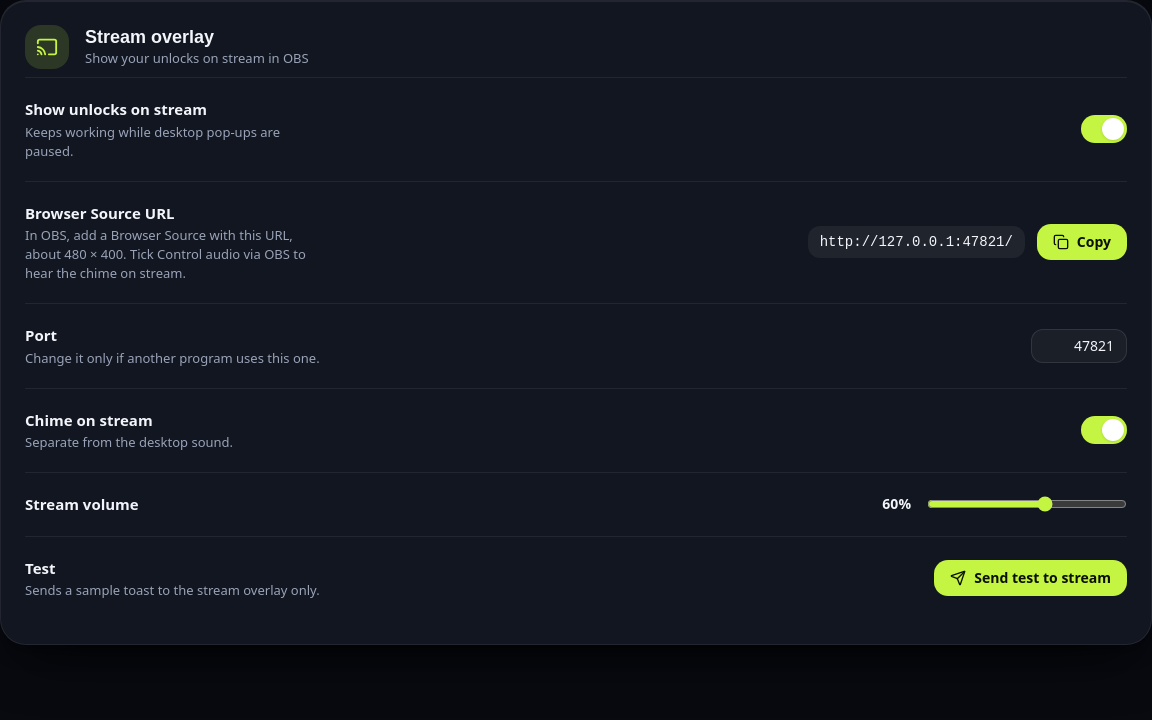
it: StreamOverlaySection › shows the Browser Source URL once the server is running and copies it
The image size is (1152, 720).
Expected: the text "http://127.0.0.1:47821/" is shown, [808, 226, 1025, 258]
Click the button "Copy": (1082, 242) [1037, 224, 1127, 260]
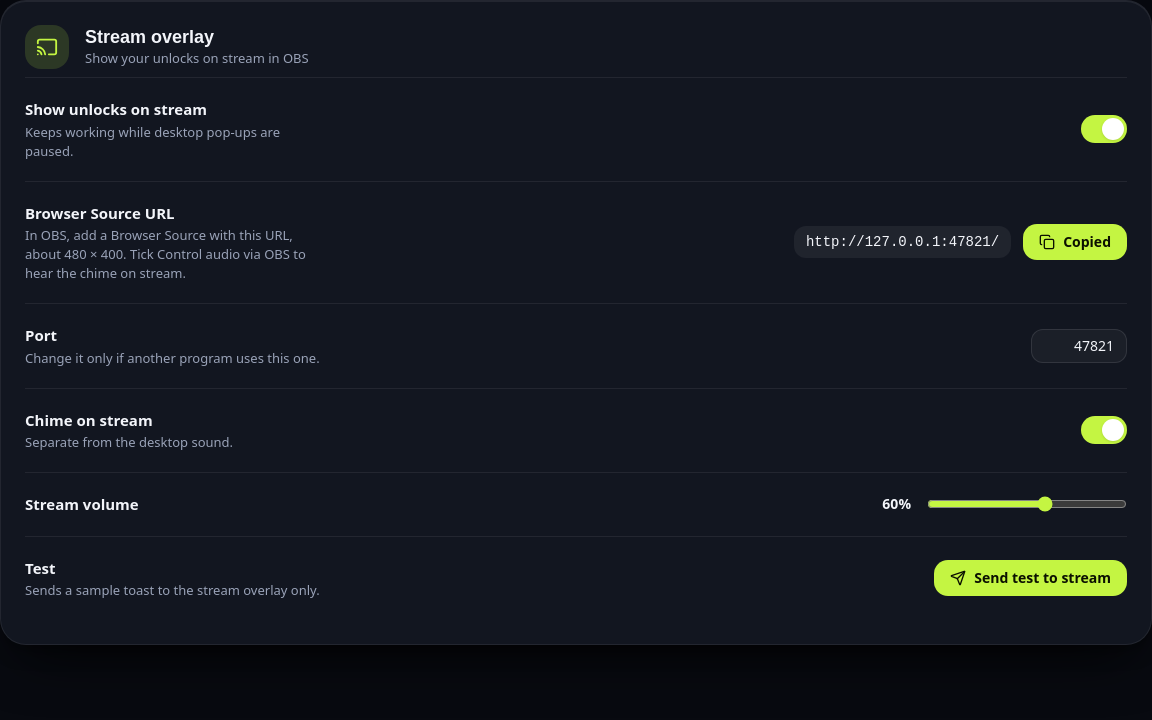
Now the button "Copied" is shown, box [1023, 224, 1127, 260]
